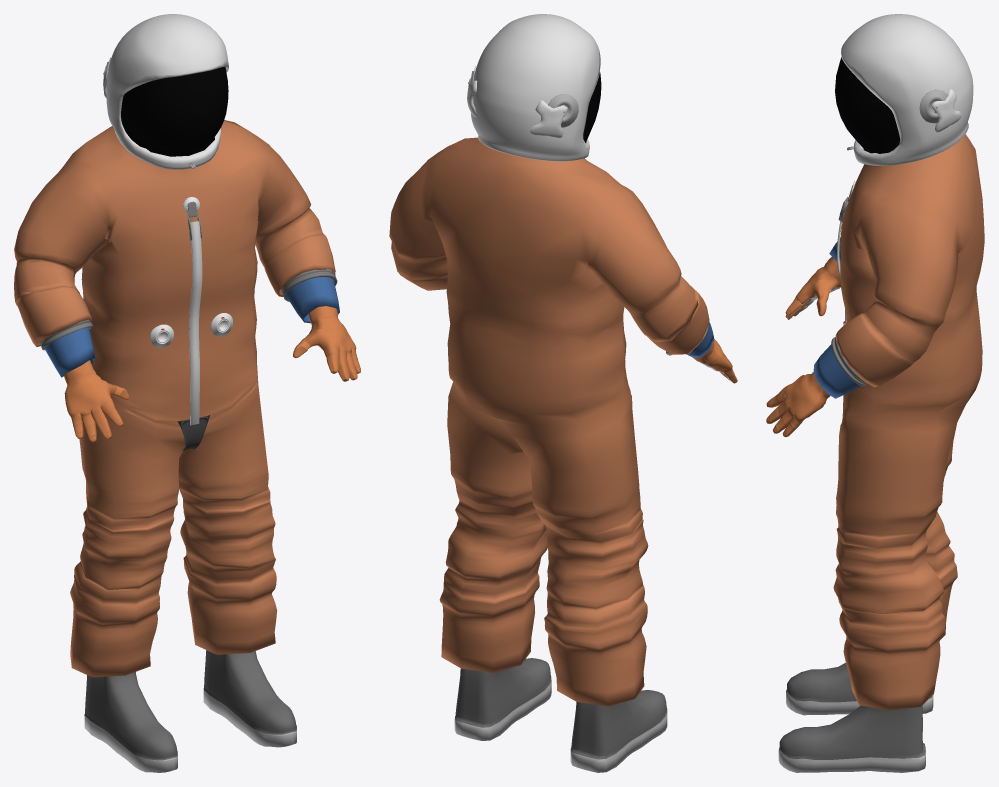
The model's file is spacesuit-scene.dae.
3 renders of one model, left to right at view 1: azimuth 30°, elevation 25°; view 2: azimuth 150°, elevation 25°; view 3: azimuth 270°, elevation 25°, orthographic. The views are drawn at different scales.
Parts seen in each view (by area): view 1: astronaut; view 2: astronaut; view 3: astronaut.
Part boxes in pixels (<box>): astronaut: <box>14,14,360,772</box>; astronaut: <box>389,14,737,772</box>; astronaut: <box>766,14,984,772</box>.
Bounding box in the file's own units: 0.8872 × 0.5549 × 2.01.
